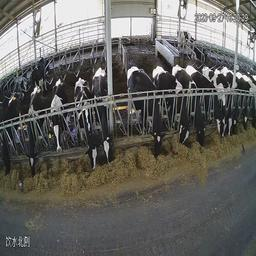cow: (123, 64, 165, 167), (71, 75, 98, 180), (92, 64, 116, 170), (23, 82, 45, 184), (163, 69, 189, 152), (47, 75, 69, 164), (187, 69, 209, 149), (2, 87, 20, 183), (205, 76, 226, 138), (175, 25, 199, 54), (30, 53, 51, 86), (226, 75, 236, 134), (244, 87, 253, 140), (237, 85, 243, 136)
